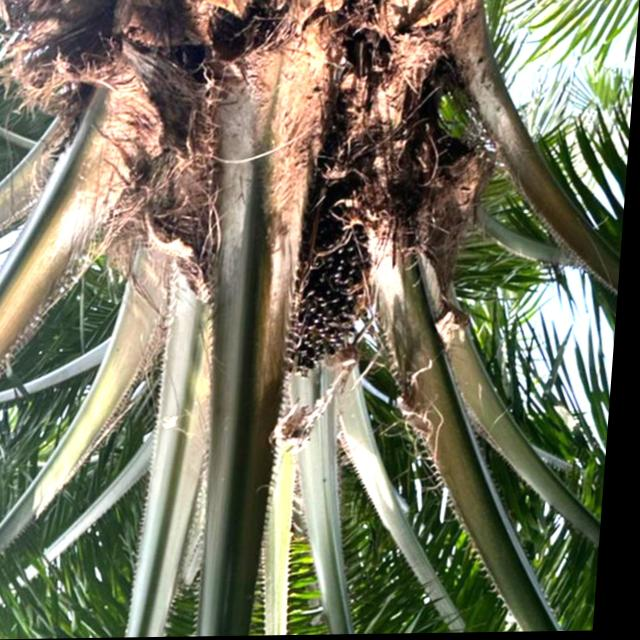almost: (270, 187, 393, 392)
